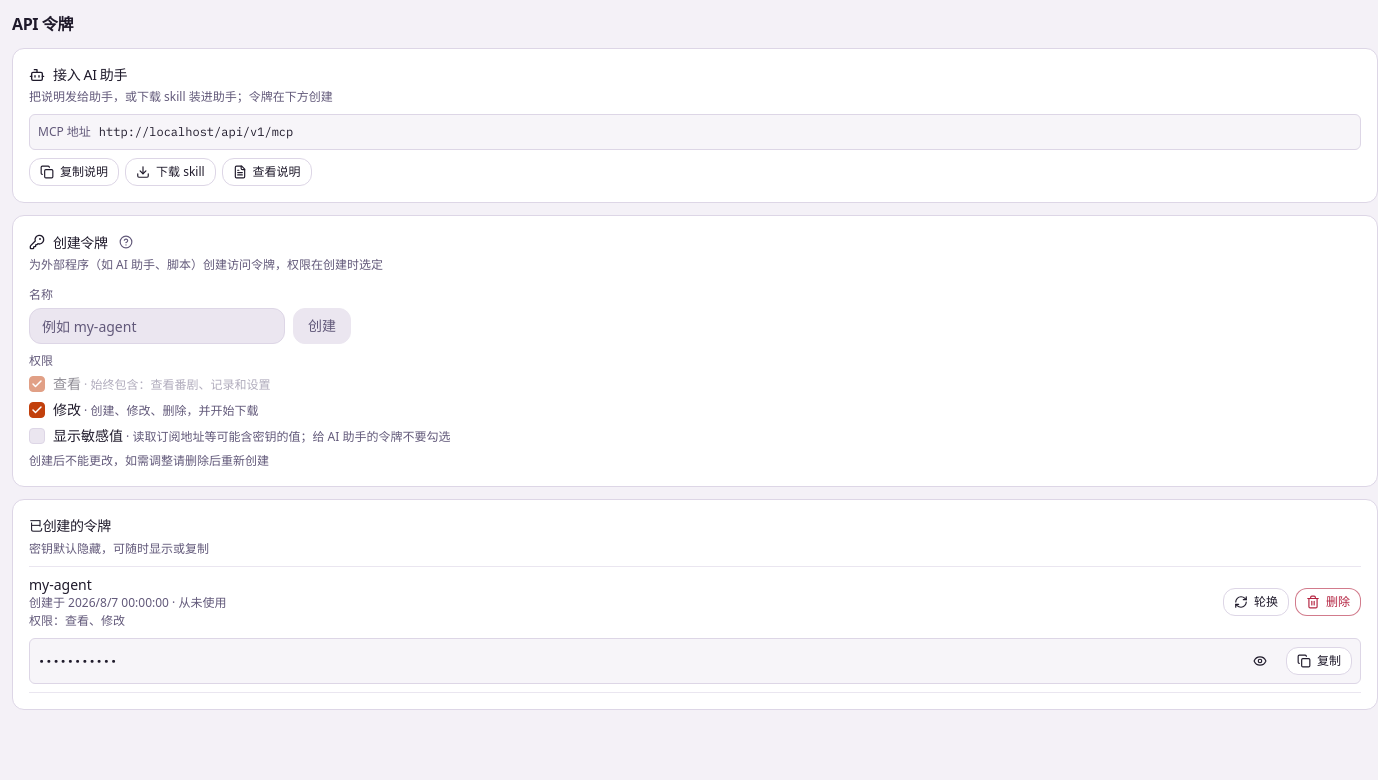
Test: SettingsAILab › 列表行内 raw key 默认遮罩，可点眼睛查看全文，复制始终可用
This screenshot has width=1378, height=780.
expect the text "my-agent" is shown: met, box [29,574,92,594]
expect the text "•••••••••••" is shown: met, box [38,653,117,668]
# The eye reveals the full text.
Click the button named "显示密钥": (1260, 661) [1242,647,1278,675]
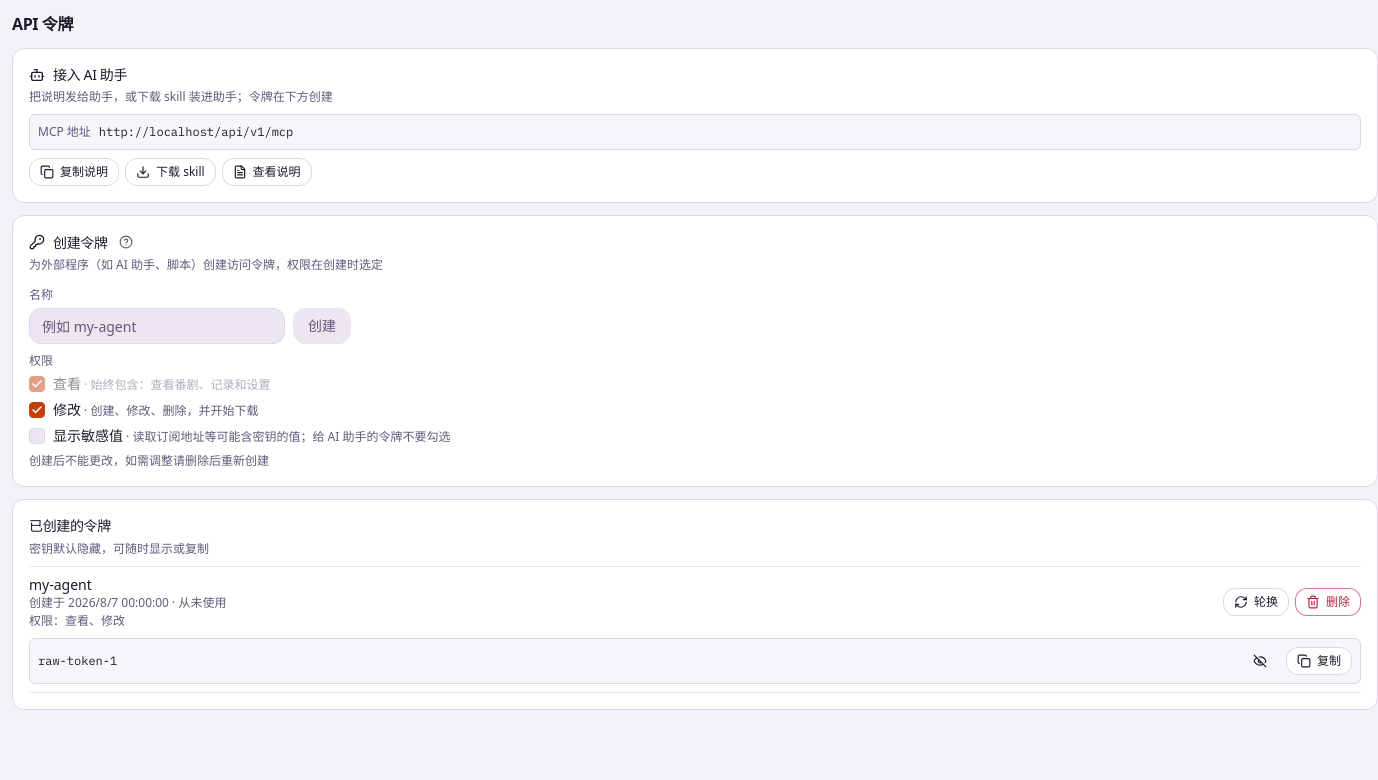
expect the text "raw-token-1" is shown: met, box [38,653,117,668]
Click the button "复制": (1319, 661) [1286,647,1352,675]
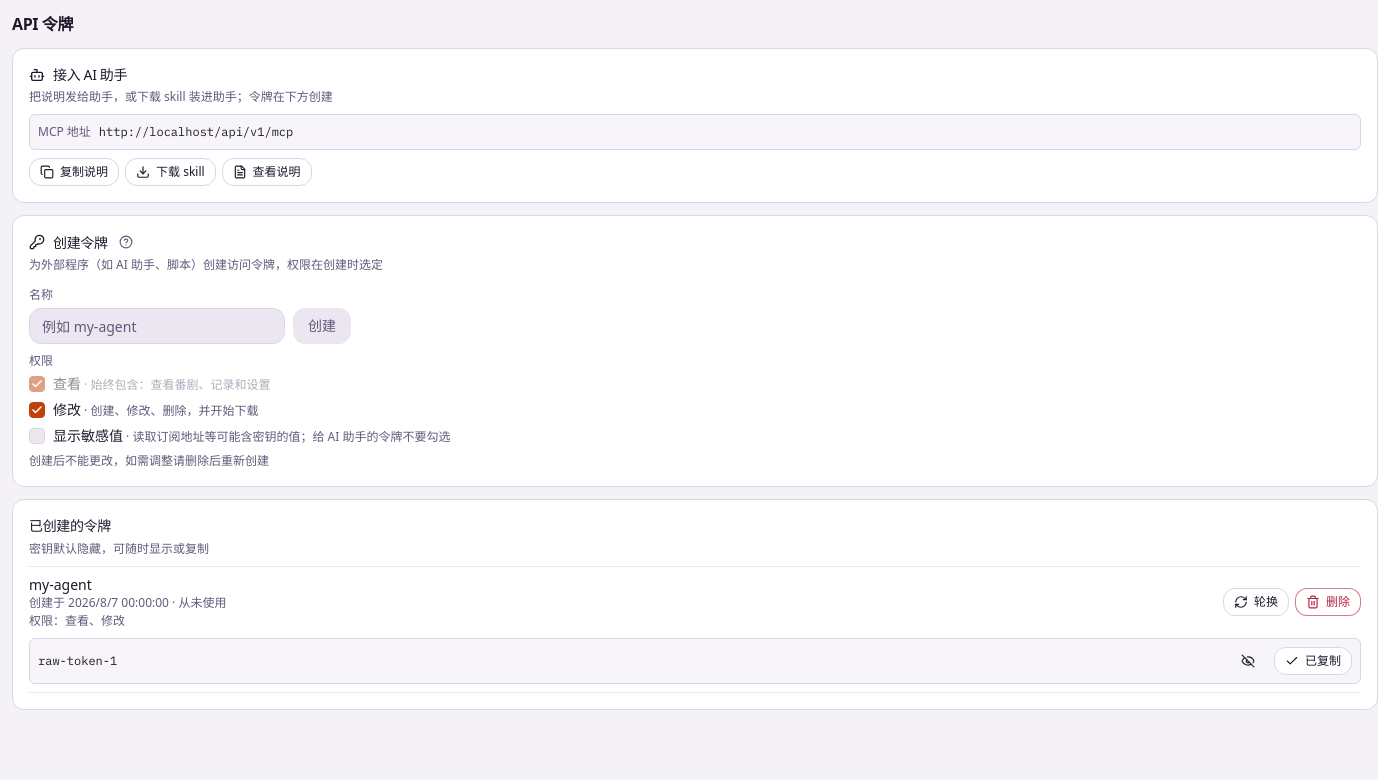
expect the button "已复制" is shown: met, box [1274,647,1352,675]
